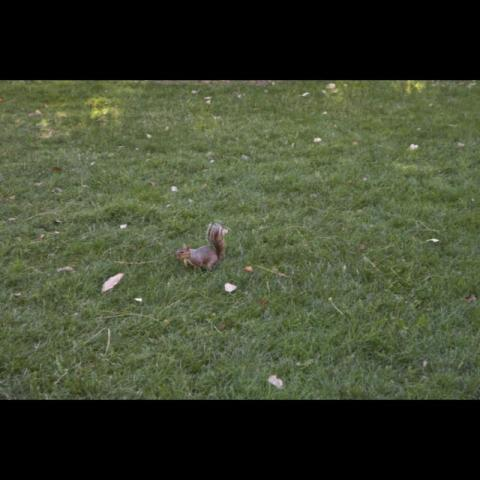small_animal: (172, 220, 230, 273)
